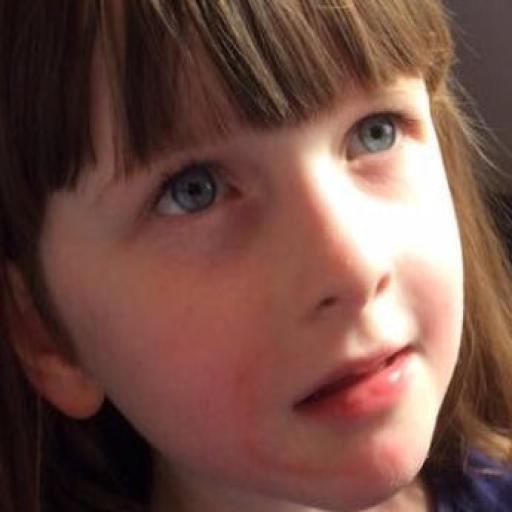Autism: (21, 3, 512, 501)
